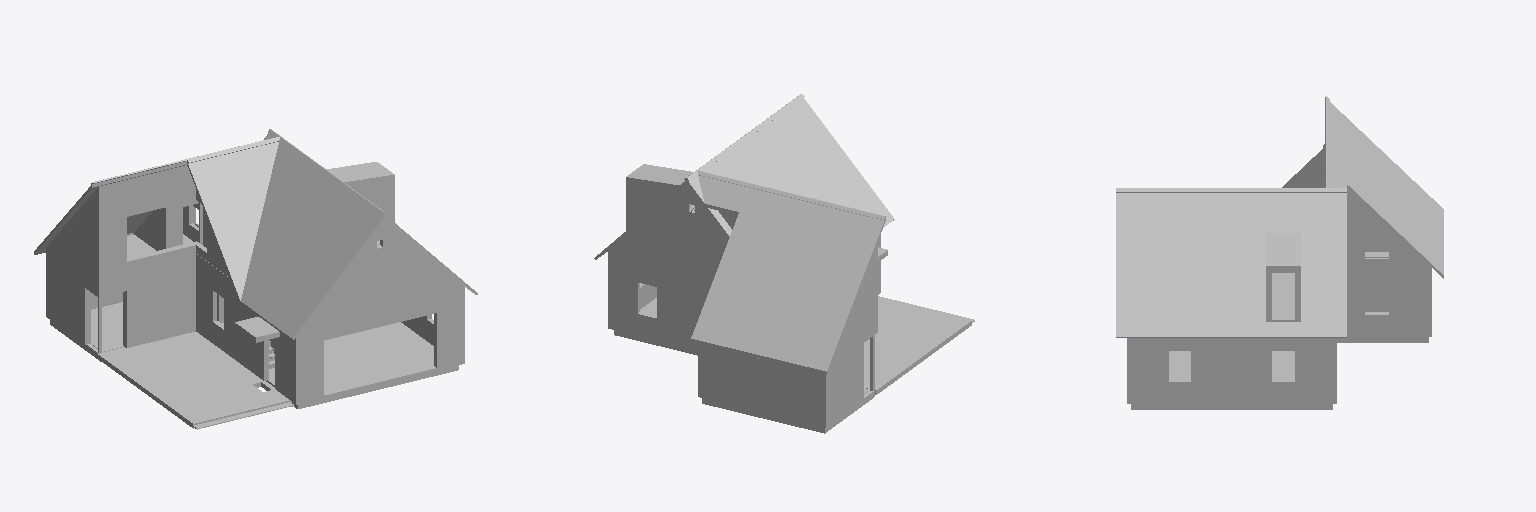
File: Cabin2022n.obj
The picture shows the model from 3 angles: view 1: azimuth 30°, elevation 25°; view 2: azimuth 150°, elevation 25°; view 3: azimuth 270°, elevation 25°; orthographic projection.
Visible parts, largest first — view 1: UNITY_Bois_Blanc_Horizontal_Existant_2, UNITY_Taule_4"_90deg, UNITY_Plancher_Bois_Gris_90deg, UNITY_Plafond_Planche_Cedre, UNITY_Blanc, UNITY_Gypsum_Wall_Board, UNITY_Gris, UNITY_Aluminex_Frame, UNITY_Crete, UNITY_Taule; view 2: UNITY_Taule_4"_90deg, UNITY_Bois_Blanc_Horizontal_Existant_2, UNITY_Plancher_Bois_Gris_90deg, UNITY_Gris, UNITY_Blanc, UNITY_Crete, UNITY_Aluminex_Frame; view 3: UNITY_Taule_4"_90deg, UNITY_Bois_Blanc_Horizontal_Existant_2, UNITY_Blanc, UNITY_Gris, UNITY_Crete, UNITY_Plafond_Planche_Cedre, UNITY_Gypsum_Wall_Board, UNITY_Plafond_Planche_Large.
Boxes of the visible parts, x1,y1,x2,y2 form: UNITY_Bois_Blanc_Horizontal_Existant_2: [46, 175, 459, 402]; UNITY_Taule_4"_90deg: [188, 133, 383, 338]; UNITY_Plancher_Bois_Gris_90deg: [98, 332, 288, 423]; UNITY_Plafond_Planche_Cedre: [91, 302, 433, 392]; UNITY_Blanc: [46, 162, 464, 404]; UNITY_Gypsum_Wall_Board: [89, 200, 435, 379]; UNITY_Gris: [34, 161, 477, 408]; UNITY_Aluminex_Frame: [98, 297, 293, 429]; UNITY_Crete: [91, 129, 387, 216]; UNITY_Taule: [235, 317, 279, 342]; UNITY_Taule_4"_90deg: [689, 98, 894, 371]; UNITY_Bois_Blanc_Horizontal_Existant_2: [612, 184, 877, 427]; UNITY_Plancher_Bois_Gris_90deg: [864, 298, 970, 389]; UNITY_Gris: [594, 180, 893, 433]; UNITY_Blanc: [608, 164, 880, 328]; UNITY_Crete: [684, 94, 885, 220]; UNITY_Aluminex_Frame: [866, 296, 974, 394]; UNITY_Taule_4"_90deg: [1116, 102, 1443, 336]; UNITY_Bois_Blanc_Horizontal_Existant_2: [1132, 198, 1431, 403]; UNITY_Blanc: [1127, 188, 1431, 403]; UNITY_Gris: [1116, 185, 1443, 409]; UNITY_Crete: [1116, 96, 1346, 192]; UNITY_Plafond_Planche_Cedre: [1169, 351, 1294, 379]; UNITY_Gypsum_Wall_Board: [1365, 237, 1388, 311]; UNITY_Plafond_Planche_Large: [1272, 273, 1294, 316].
Size of the model in its own units: 41.1 by 25.43 by 41.37.